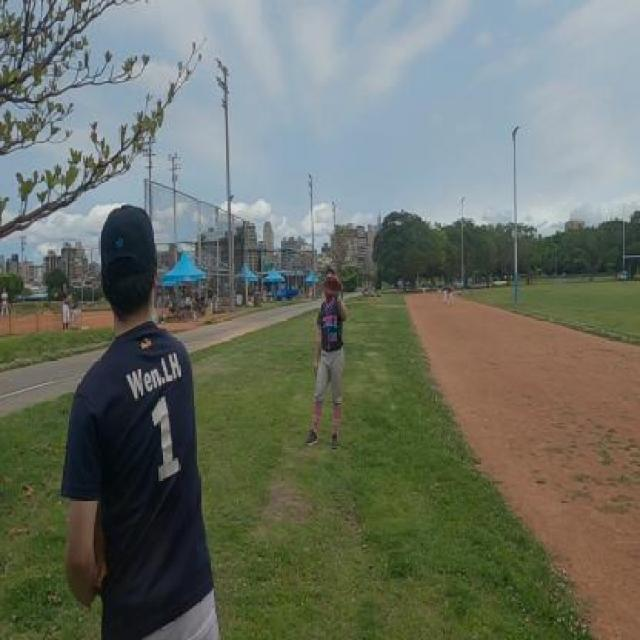baseball: (325, 258, 330, 270)
